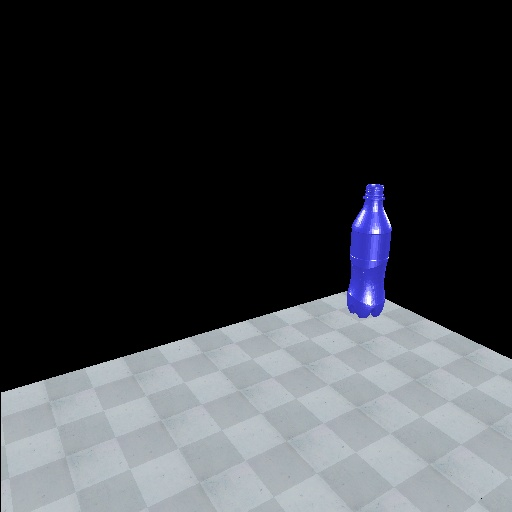bottle: (344, 180, 396, 319)
